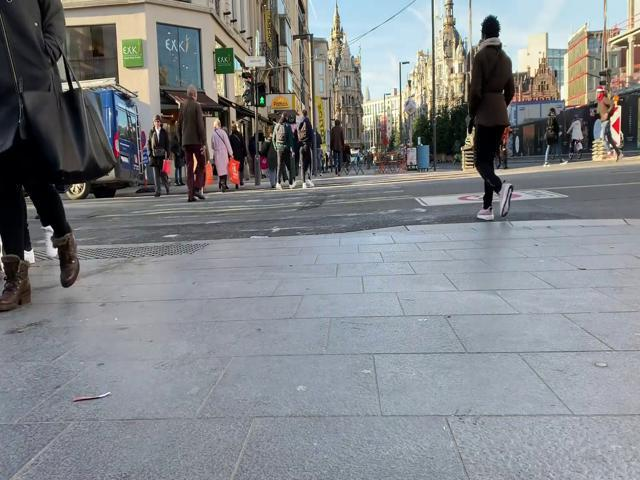shoe: (1, 255, 31, 311), (51, 234, 80, 287), (498, 183, 513, 217), (476, 207, 496, 220)
